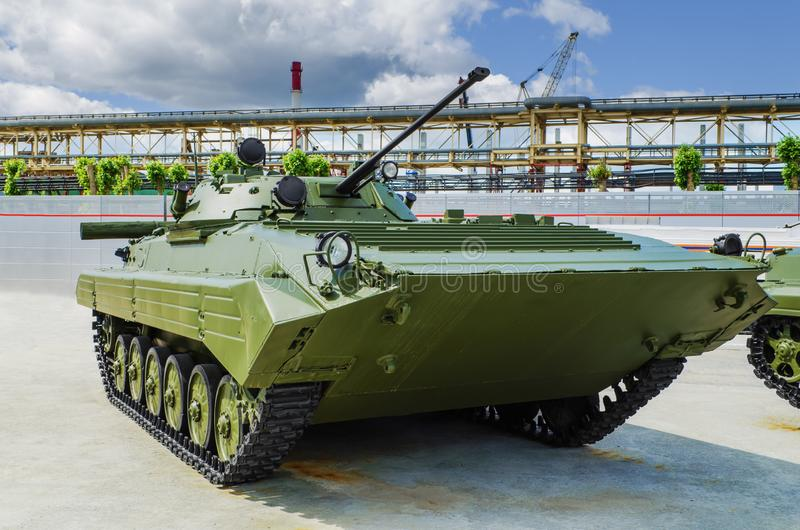bmp1: (93, 70, 773, 480)
